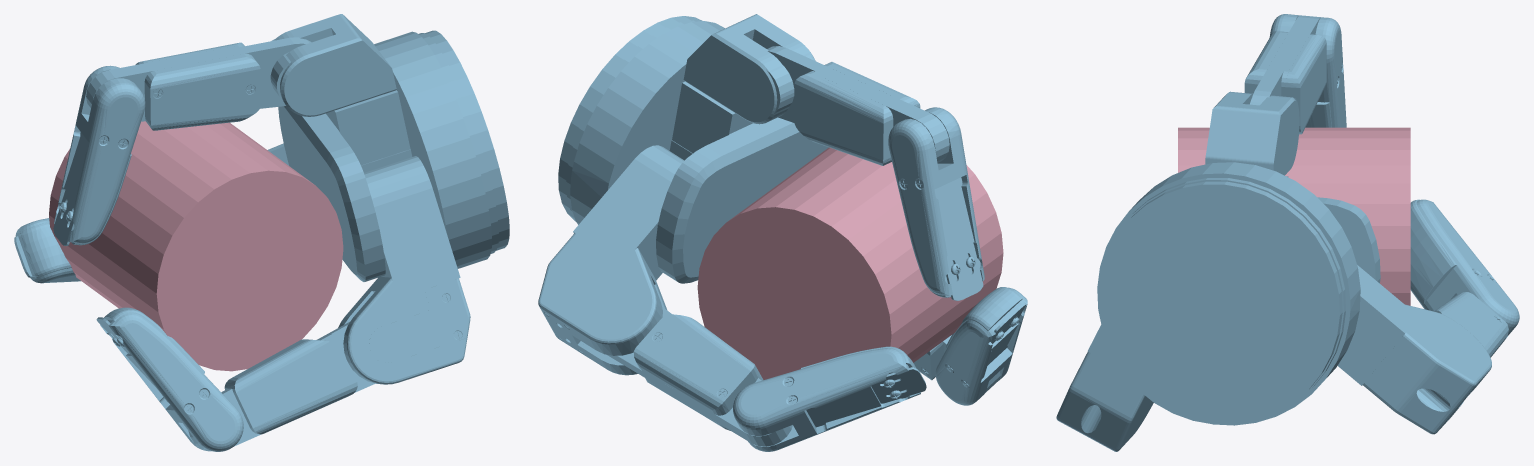
Rendered from Barrett_contactdb+cylinder_medium_mesh.glb.
3 views of the same model, side by side, from view 1: azimuth 30°, elevation 25°; view 2: azimuth 150°, elevation 25°; view 3: azimuth 270°, elevation 25° (orthographic). The views are drawn at different scales.
Visible parts, largest first — view 1: world; view 2: world; view 3: world.
Boxes of the visible parts, x1,y1,x2,y2 form: world: [14, 14, 509, 451]; world: [538, 14, 1027, 451]; world: [1056, 14, 1519, 451].
Bounding box in the file's own units: 0.1696 × 0.1438 × 0.1592.
